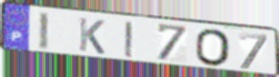7: (155, 23, 190, 63), (238, 31, 269, 70)
I: (37, 11, 51, 52), (124, 20, 136, 60)
K: (77, 16, 106, 56)
O: (194, 28, 232, 68)
